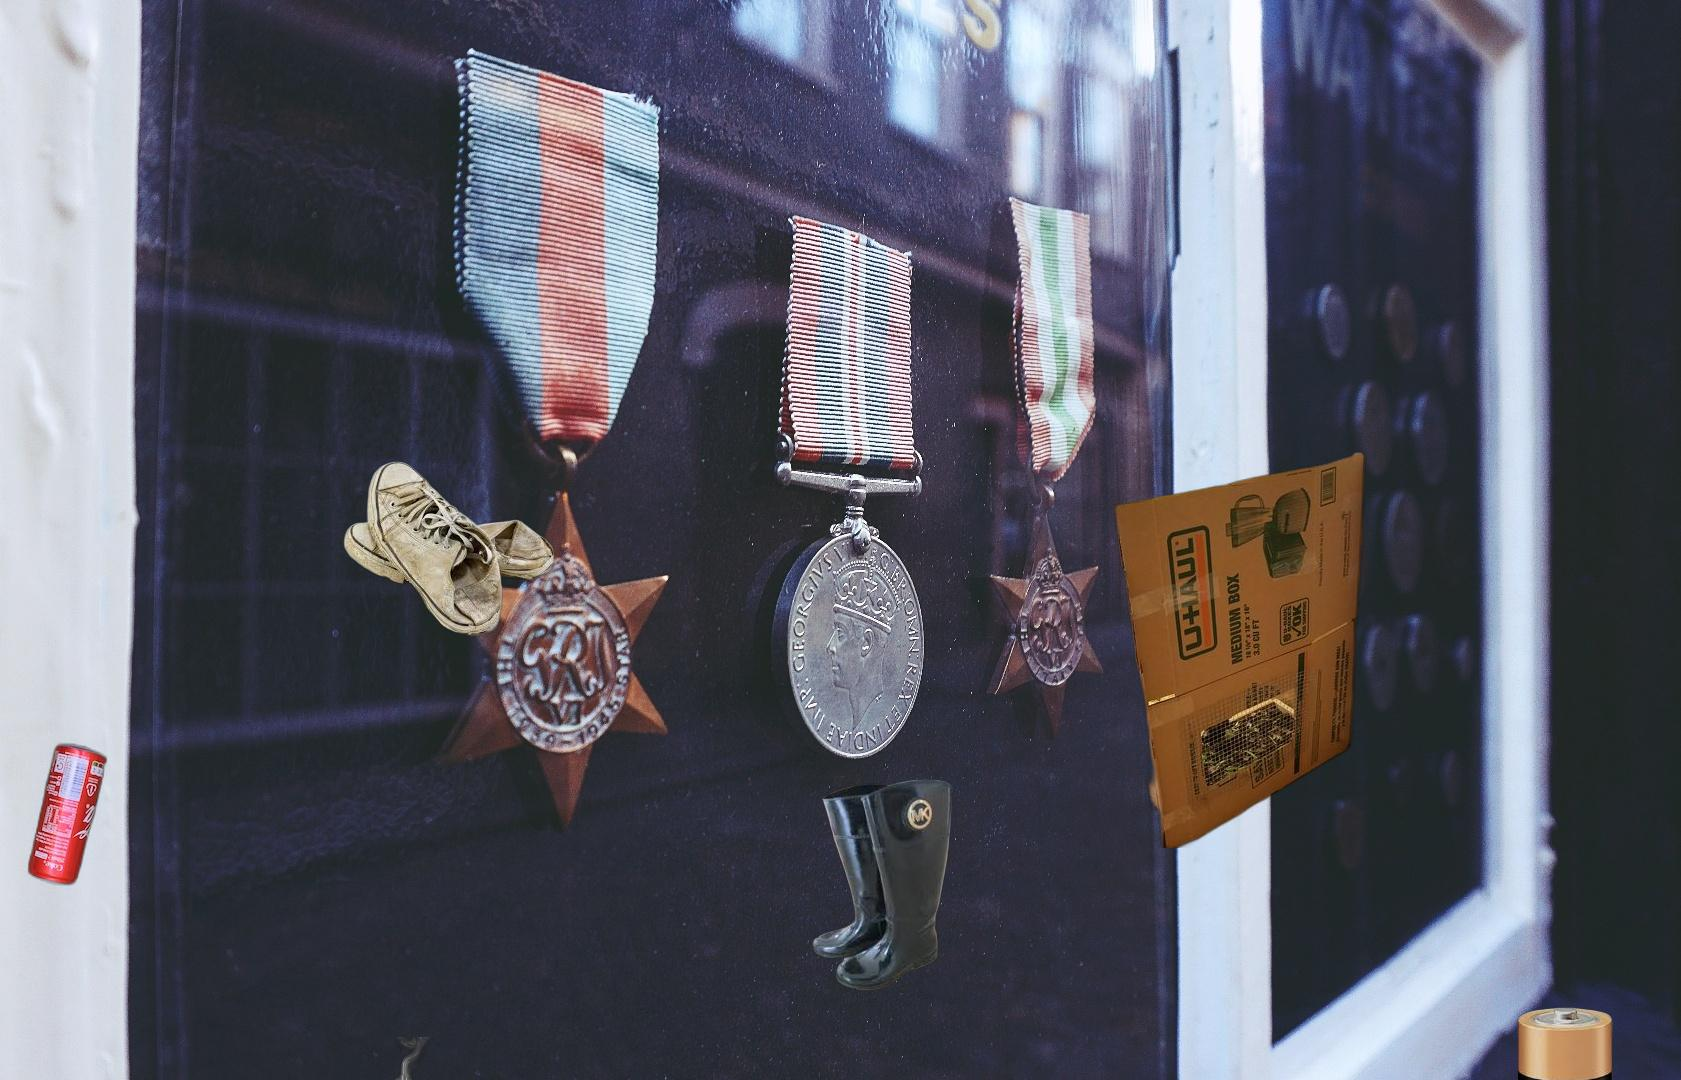battery: (1516, 1005, 1615, 1080)
clothes: (233, 1037, 548, 1080)
metal-cans: (23, 737, 110, 891)
shoes: (341, 458, 557, 637), (809, 777, 954, 993)
trashbox-cardboard: (1109, 447, 1372, 848)
